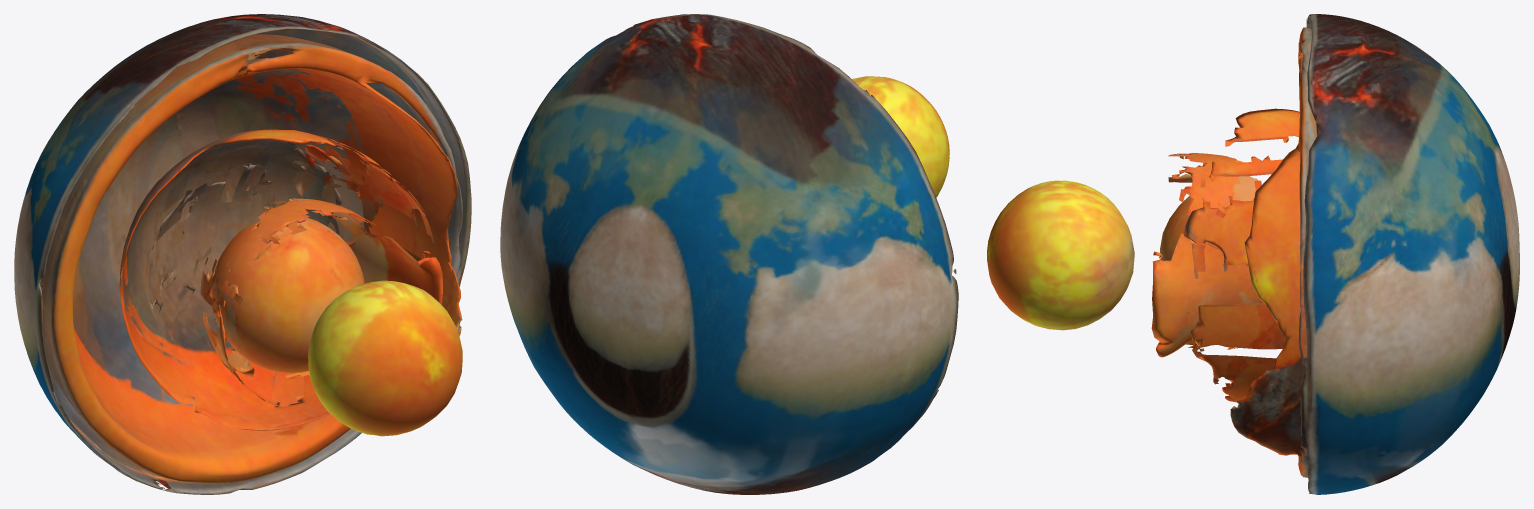
The model's file is earth-layers.glb.
The picture shows the model from 3 angles, left to right: view 1: azimuth 30°, elevation 25°; view 2: azimuth 150°, elevation 25°; view 3: azimuth 270°, elevation 25°; orthographic projection. The views are drawn at different scales.
Bounding box in the file's own units: 1.79 × 1.81 × 2.
Materials: 1 (1 with a texture image).
